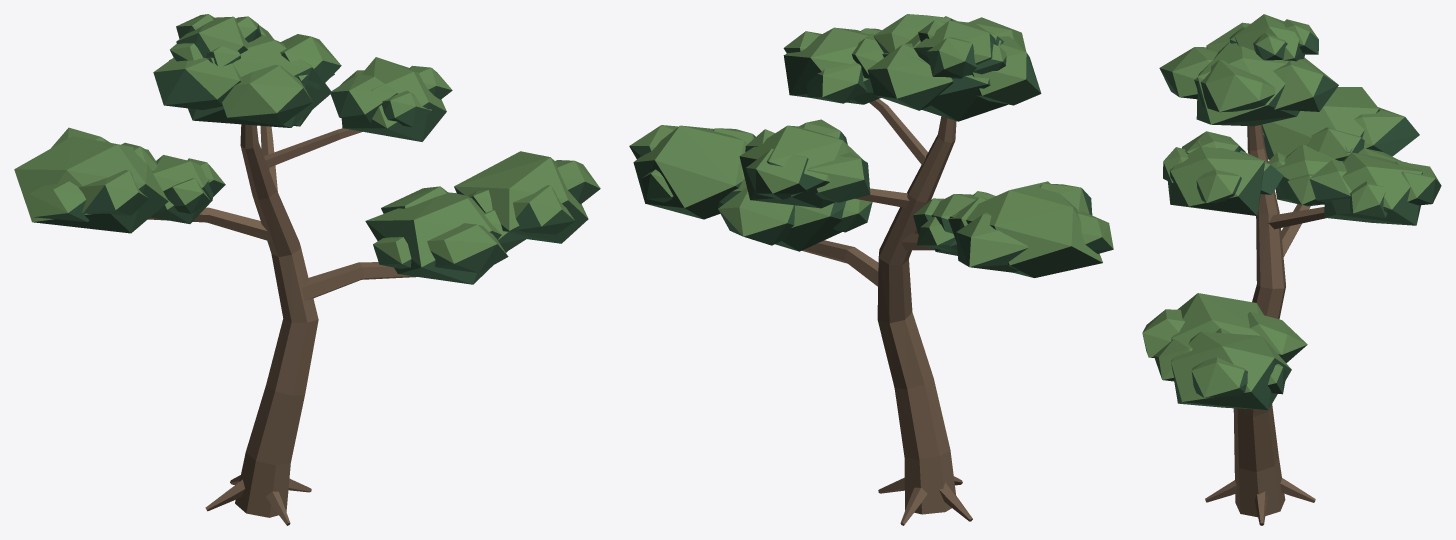
File: pine_windswept.glb
3 renders of one model, left to right at view 1: azimuth 30°, elevation 25°; view 2: azimuth 150°, elevation 25°; view 3: azimuth 270°, elevation 25°, orthographic. The views are drawn at different scales.
Visible parts, largest first — view 1: PineWindswept / PineLight, PineWindswept / PineNeedle, PineWindswept / Bark; view 2: PineWindswept / PineLight, PineWindswept / PineNeedle, PineWindswept / Bark; view 3: PineWindswept / PineLight, PineWindswept / PineNeedle, PineWindswept / Bark.
Part boxes in pixels (left/top/right/bottom): PineWindswept / PineLight: left=14, top=14, right=600, bottom=267; PineWindswept / PineNeedle: left=33, top=24, right=600, bottom=284; PineWindswept / Bark: left=148, top=124, right=416, bottom=525; PineWindswept / PineLight: left=629, top=14, right=1113, bottom=266; PineWindswept / PineNeedle: left=629, top=18, right=1113, bottom=277; PineWindswept / Bark: left=802, top=99, right=972, bottom=525; PineWindswept / PineLight: left=1142, top=14, right=1440, bottom=401; PineWindswept / PineNeedle: left=1143, top=32, right=1441, bottom=410; PineWindswept / Bark: left=1205, top=124, right=1326, bottom=525.
Bounding box in the file's own units: 7.49 × 6.87 × 3.96.
